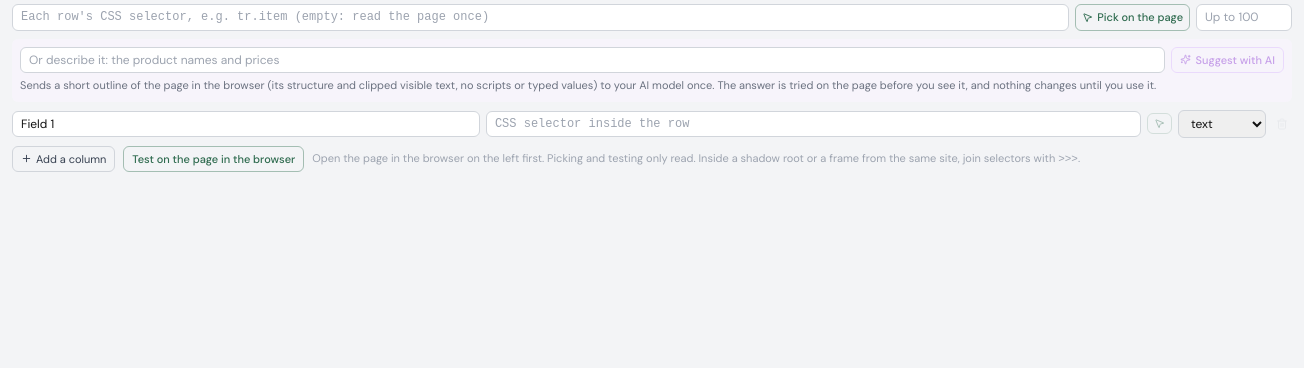
Test: Suggest with AI › a new question clears the old proposal
The width and height of the screenshot is (1304, 368).
Type "names and prices" into the field named "What to read for step 1". click: (593, 60)
box: [20,47,1166,73]
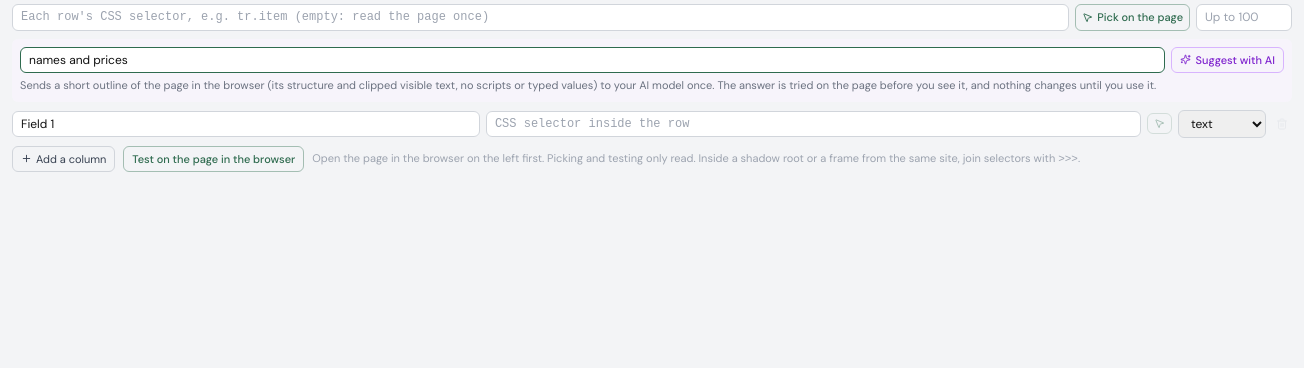
Click the button "Suggest with AI". click: (1228, 60)
box: [1172,46,1284,73]
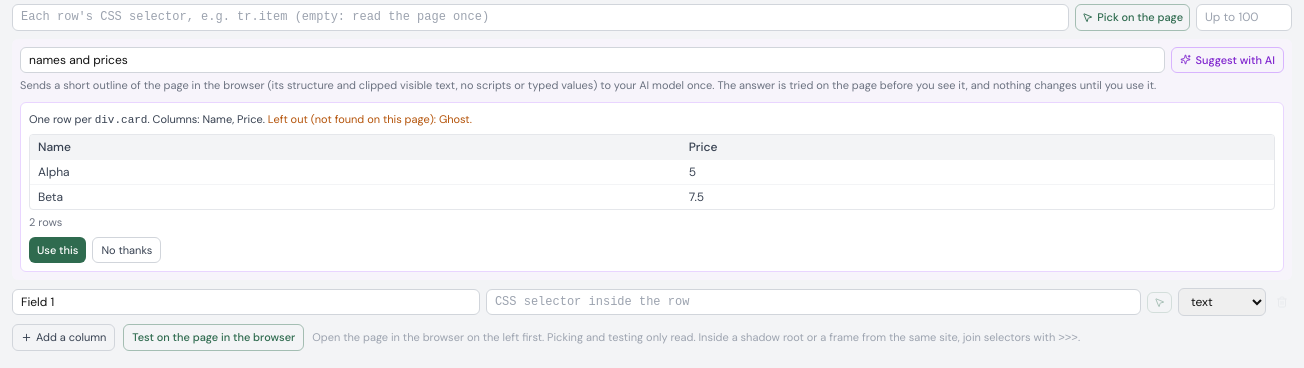
Check: the text "Alpha" is shown, box [30,160,681,184]
Click the button "Suggest with AI". click: (1228, 60)
box: [1172,46,1284,73]
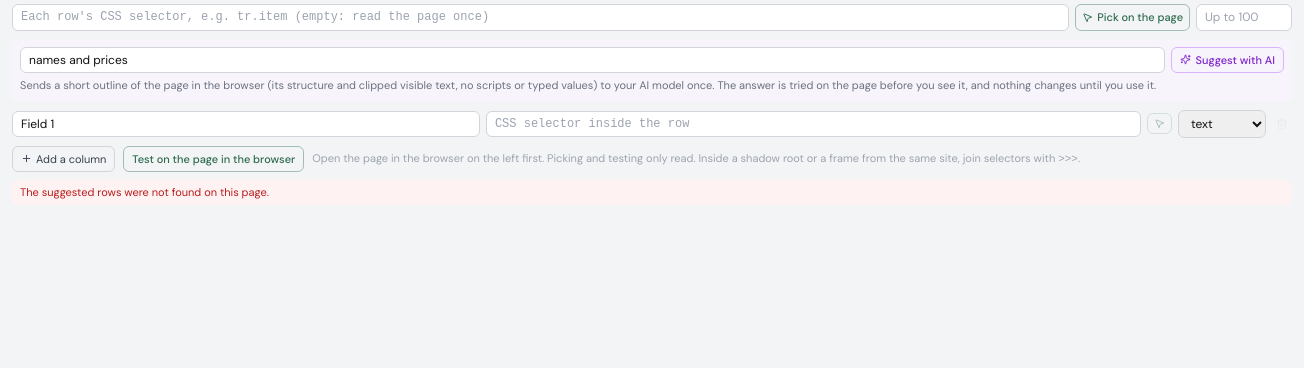
Check: the message shows "not found on this page", box [20,185,269,199]
Check: the text "Alpha" is gone
